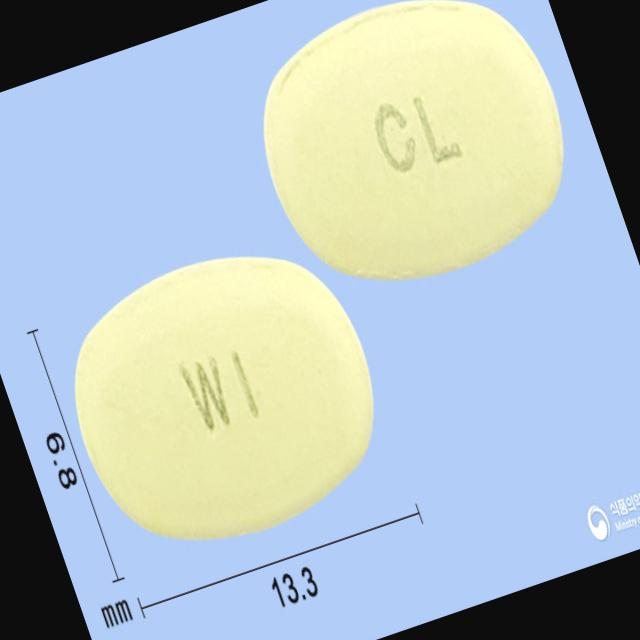Clathron - 500mg: (36, 215, 412, 582), (228, 0, 597, 316)
